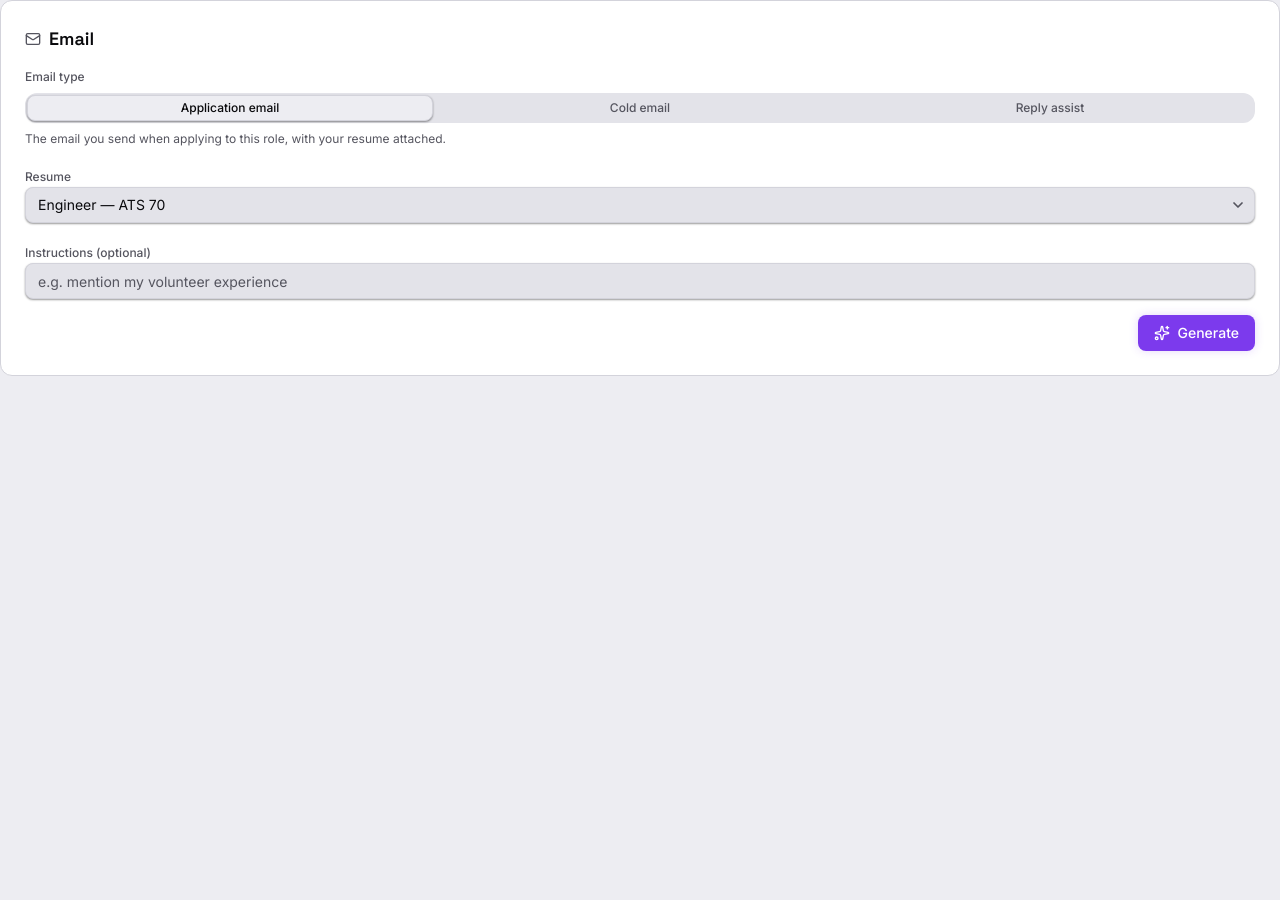
it: job email panel › shows the tone and length controls only in reply mode, defaulting to professional/standard
Check: the element "Tone" is not shown
Check: the element "Length" is not shown
Click the button "Reply assist": (1050, 108) [847, 95, 1253, 121]
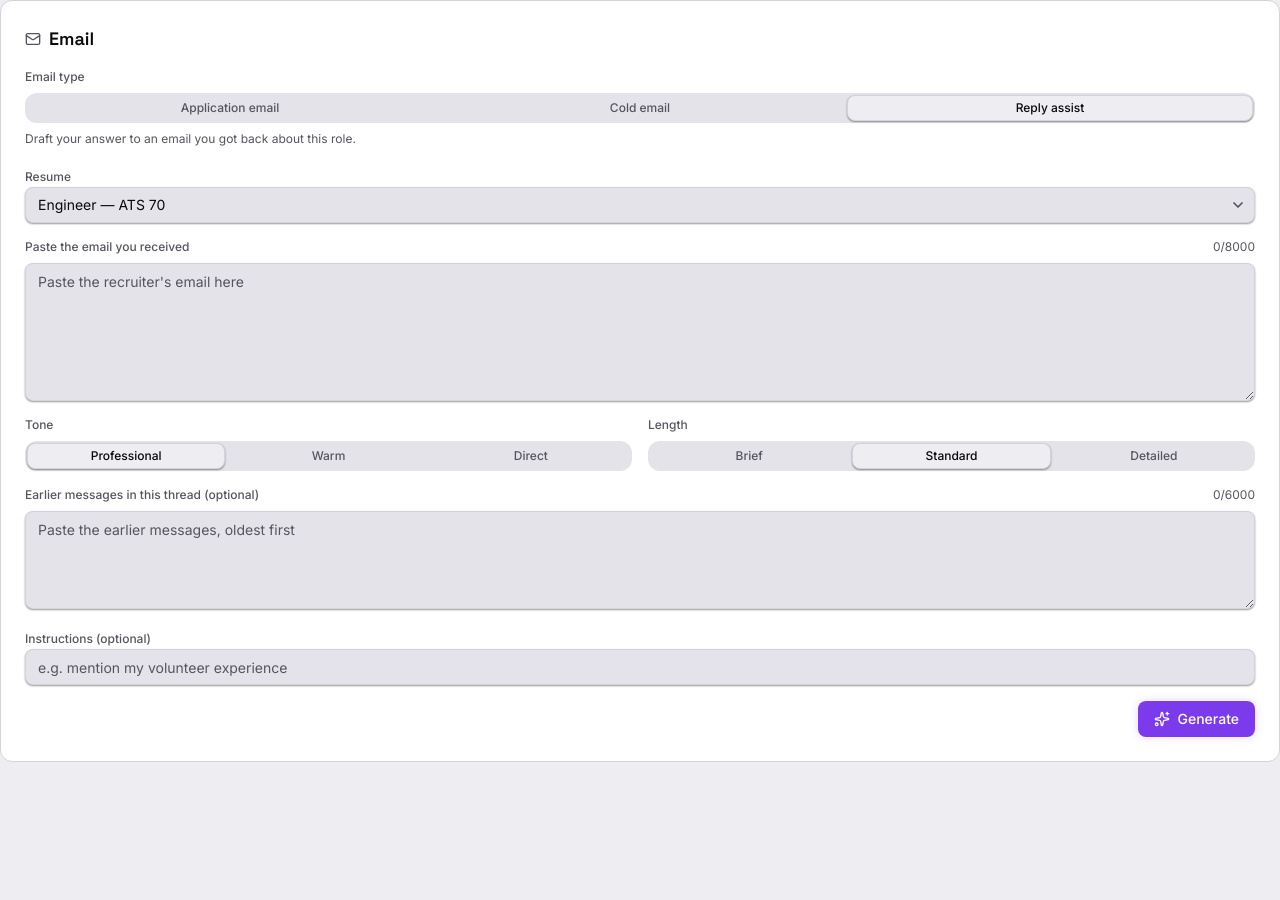
Check: the element named "Tone" is shown, box [25, 441, 632, 471]
Check: the element named "Length" is shown, box [648, 441, 1255, 471]
